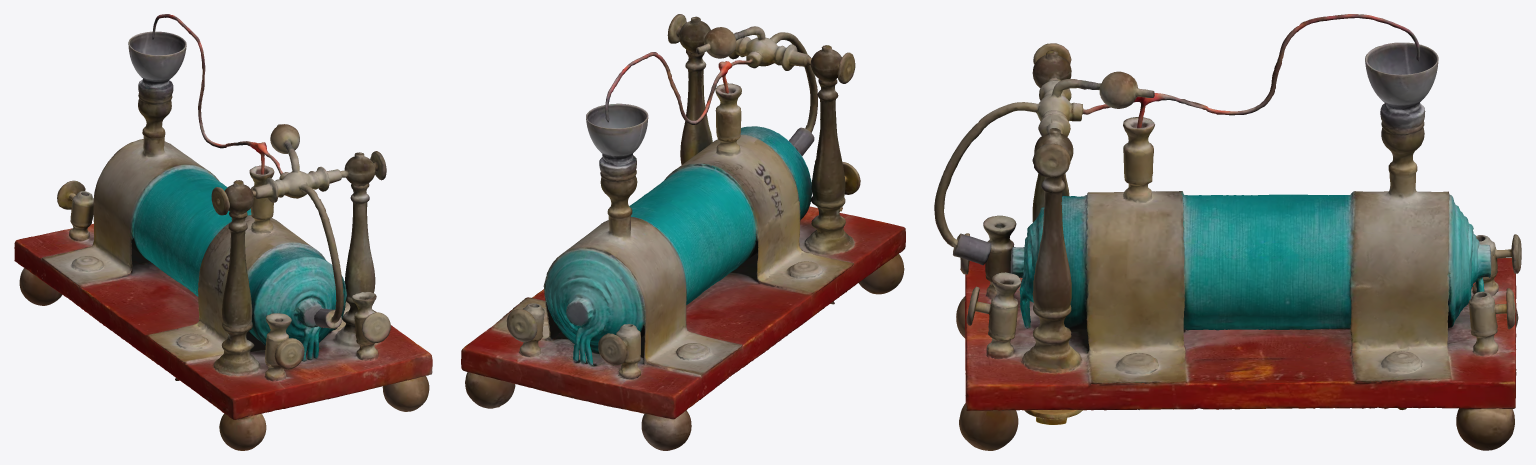
The model's file is si-page-induction-coil.glb.
3 renders of one model, left to right at view 1: azimuth 30°, elevation 25°; view 2: azimuth 150°, elevation 25°; view 3: azimuth 270°, elevation 25°, orthographic. The views are drawn at different scales.
Bounding box in the file's own units: 0.1181 × 0.1664 × 0.2309.
1 material, 1 textured.
